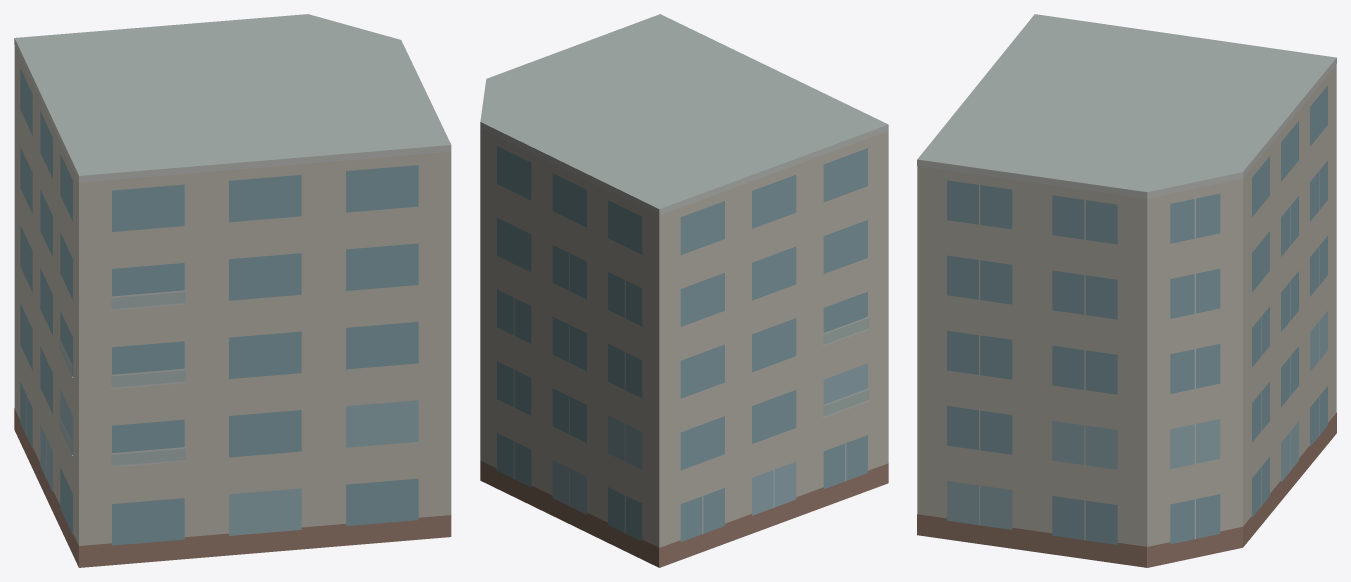
File: survey-upis-32969664.glb
3 views of the same model, side by side, from view 1: azimuth 30°, elevation 25°; view 2: azimuth 150°, elevation 25°; view 3: azimuth 270°, elevation 25° (orthographic). The views are drawn at different scales.
Parts seen in each view (by area): view 1: survey-upis-32969664.tmp; view 2: survey-upis-32969664.tmp; view 3: survey-upis-32969664.tmp.
Part boxes in pixels (box(x1,y1,x2,y2)): survey-upis-32969664.tmp: box(14, 14, 451, 567); survey-upis-32969664.tmp: box(480, 14, 888, 567); survey-upis-32969664.tmp: box(917, 14, 1336, 567).
Size of the model in its own units: 14.3 by 14.05 by 14.23.
